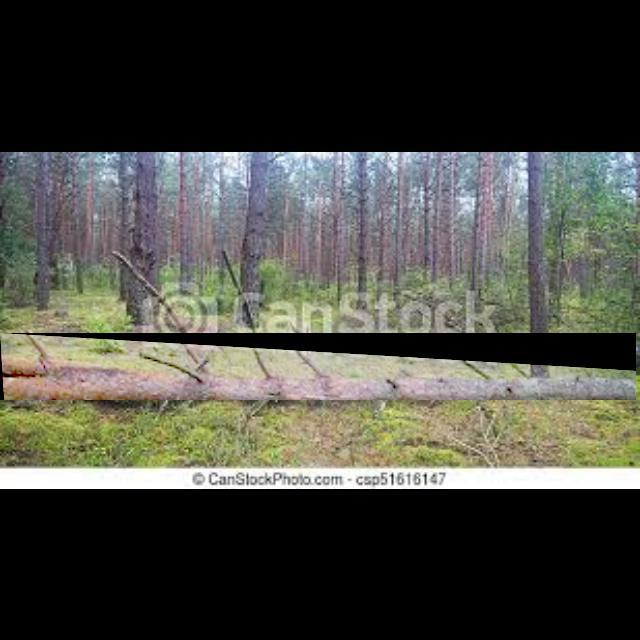fallen_tree: (0, 333, 637, 401)
